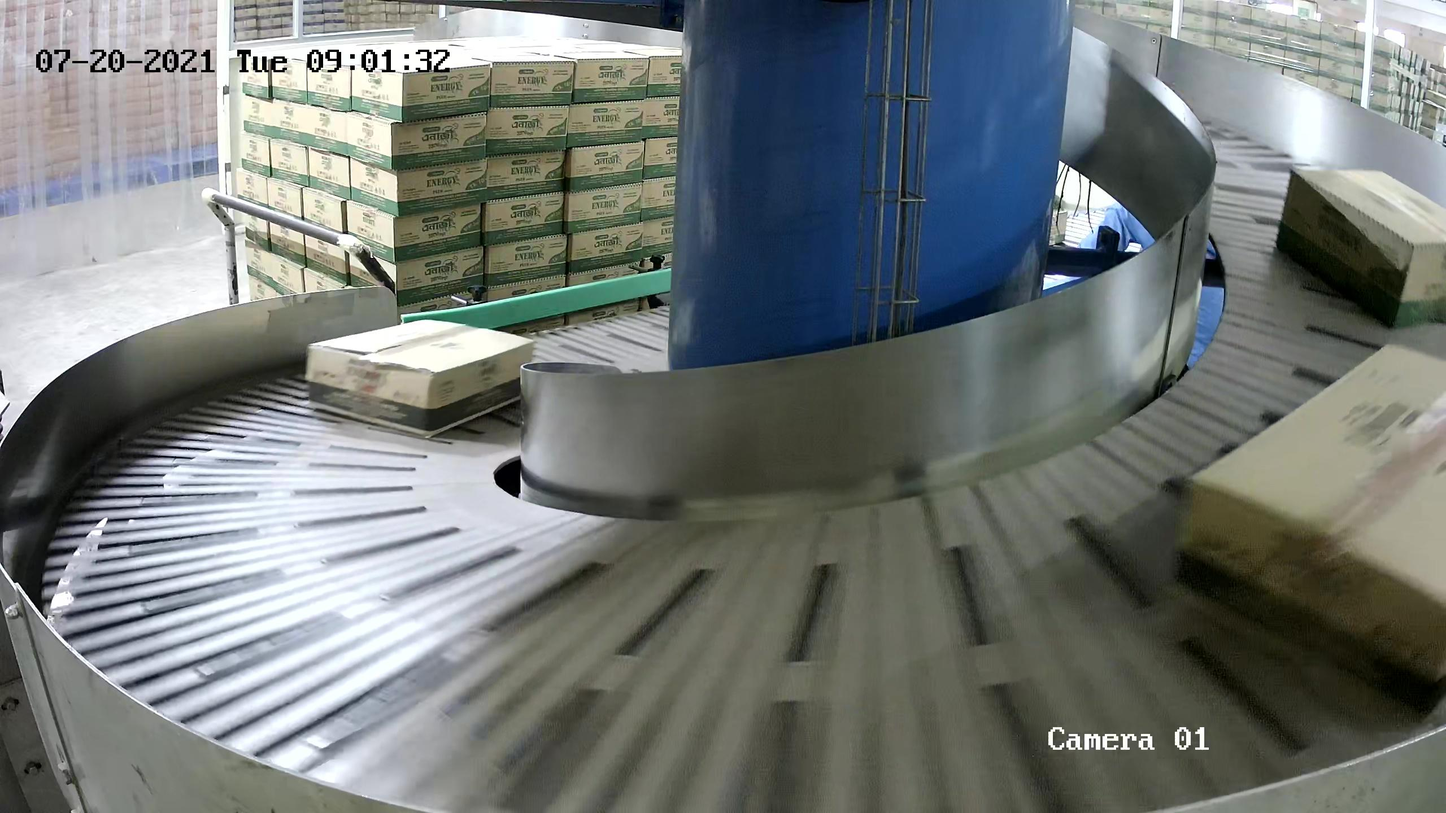Box: (1174, 337, 1446, 726), (304, 315, 538, 441), (1274, 164, 1446, 333)
